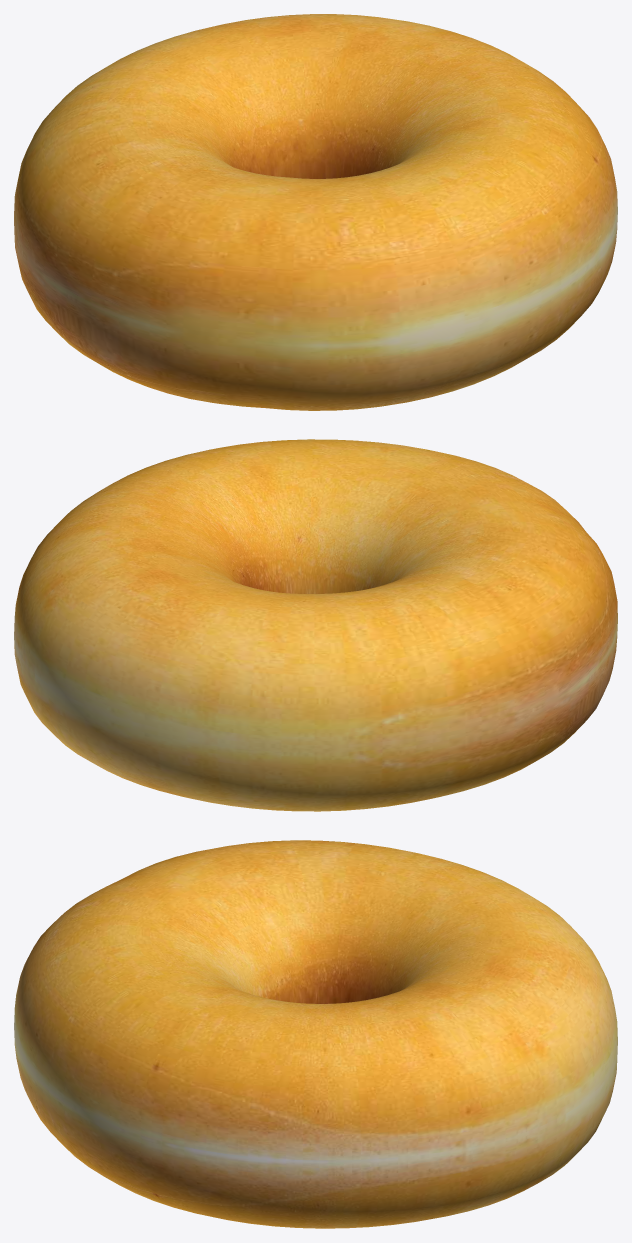
Rendered from Plain dounut big.glb.
3 renders of one model, top to bottom at view 1: azimuth 30°, elevation 25°; view 2: azimuth 150°, elevation 25°; view 3: azimuth 270°, elevation 25°, orthographic. The views are drawn at different scales.
Parts seen in each view (by area): view 1: Torus; view 2: Torus; view 3: Torus.
Part boxes in pixels (bbox=[...]): Torus: bbox=[14, 14, 617, 410]; Torus: bbox=[14, 439, 617, 811]; Torus: bbox=[14, 840, 617, 1228].
Size of the model in its own units: 0.195 by 0.0715 by 0.1947.
1 material, 1 textured.
